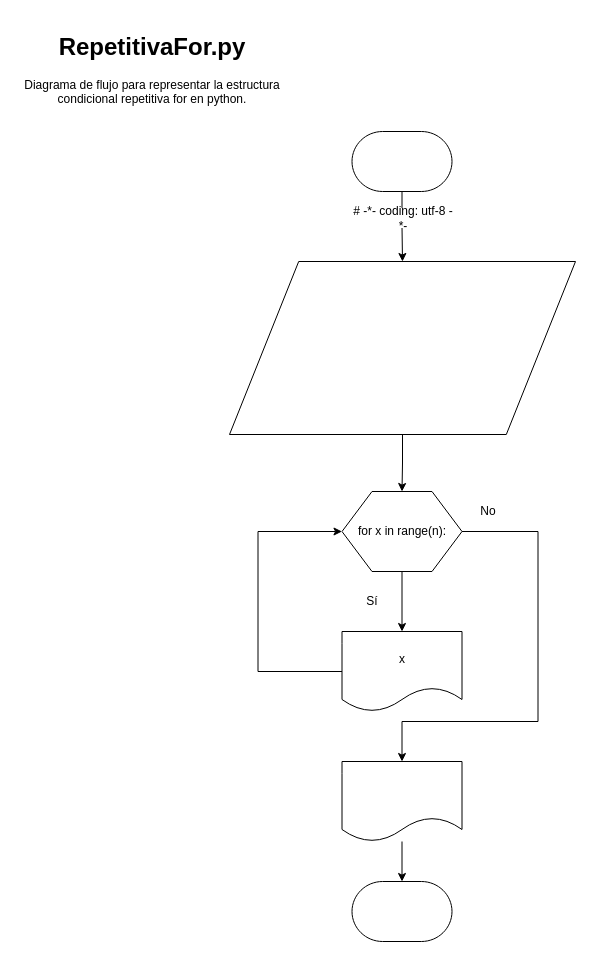
This 593x959 diagram has some shape labels left out. Each missing label, with the centre of its shape:
"Ya terminé!": the point at 401,801
n = int(input("¿Cuántas veces quieres iterar?\n: ")): the point at 402,347
